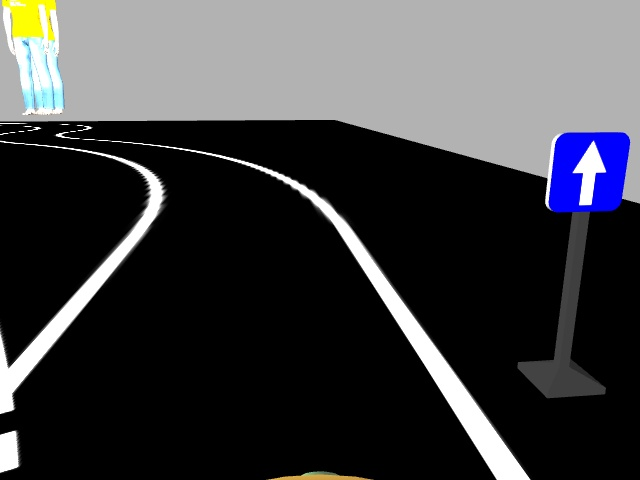OneWay: (545, 131, 625, 212)
